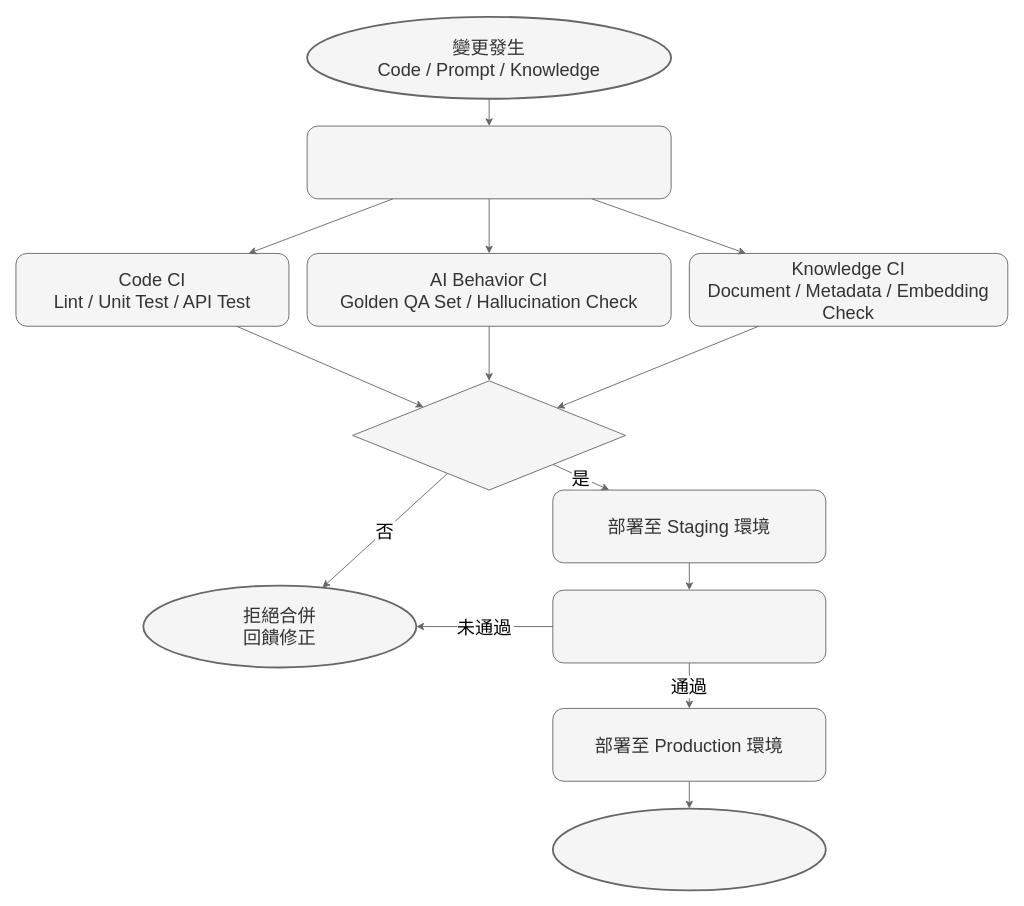
This 1024x906 diagram has some shape labels left out. Here are the shapes that lost their labels. From the top down, the centre of each, then its label:
At pixel 488 162: "版本控制 Git Repository".
At pixel 489 435: "是否通過?".
At pixel 689 626: "人工審核 Human-in-the-loop".
At pixel 688 849: "系統監控與 可回滾機制".
